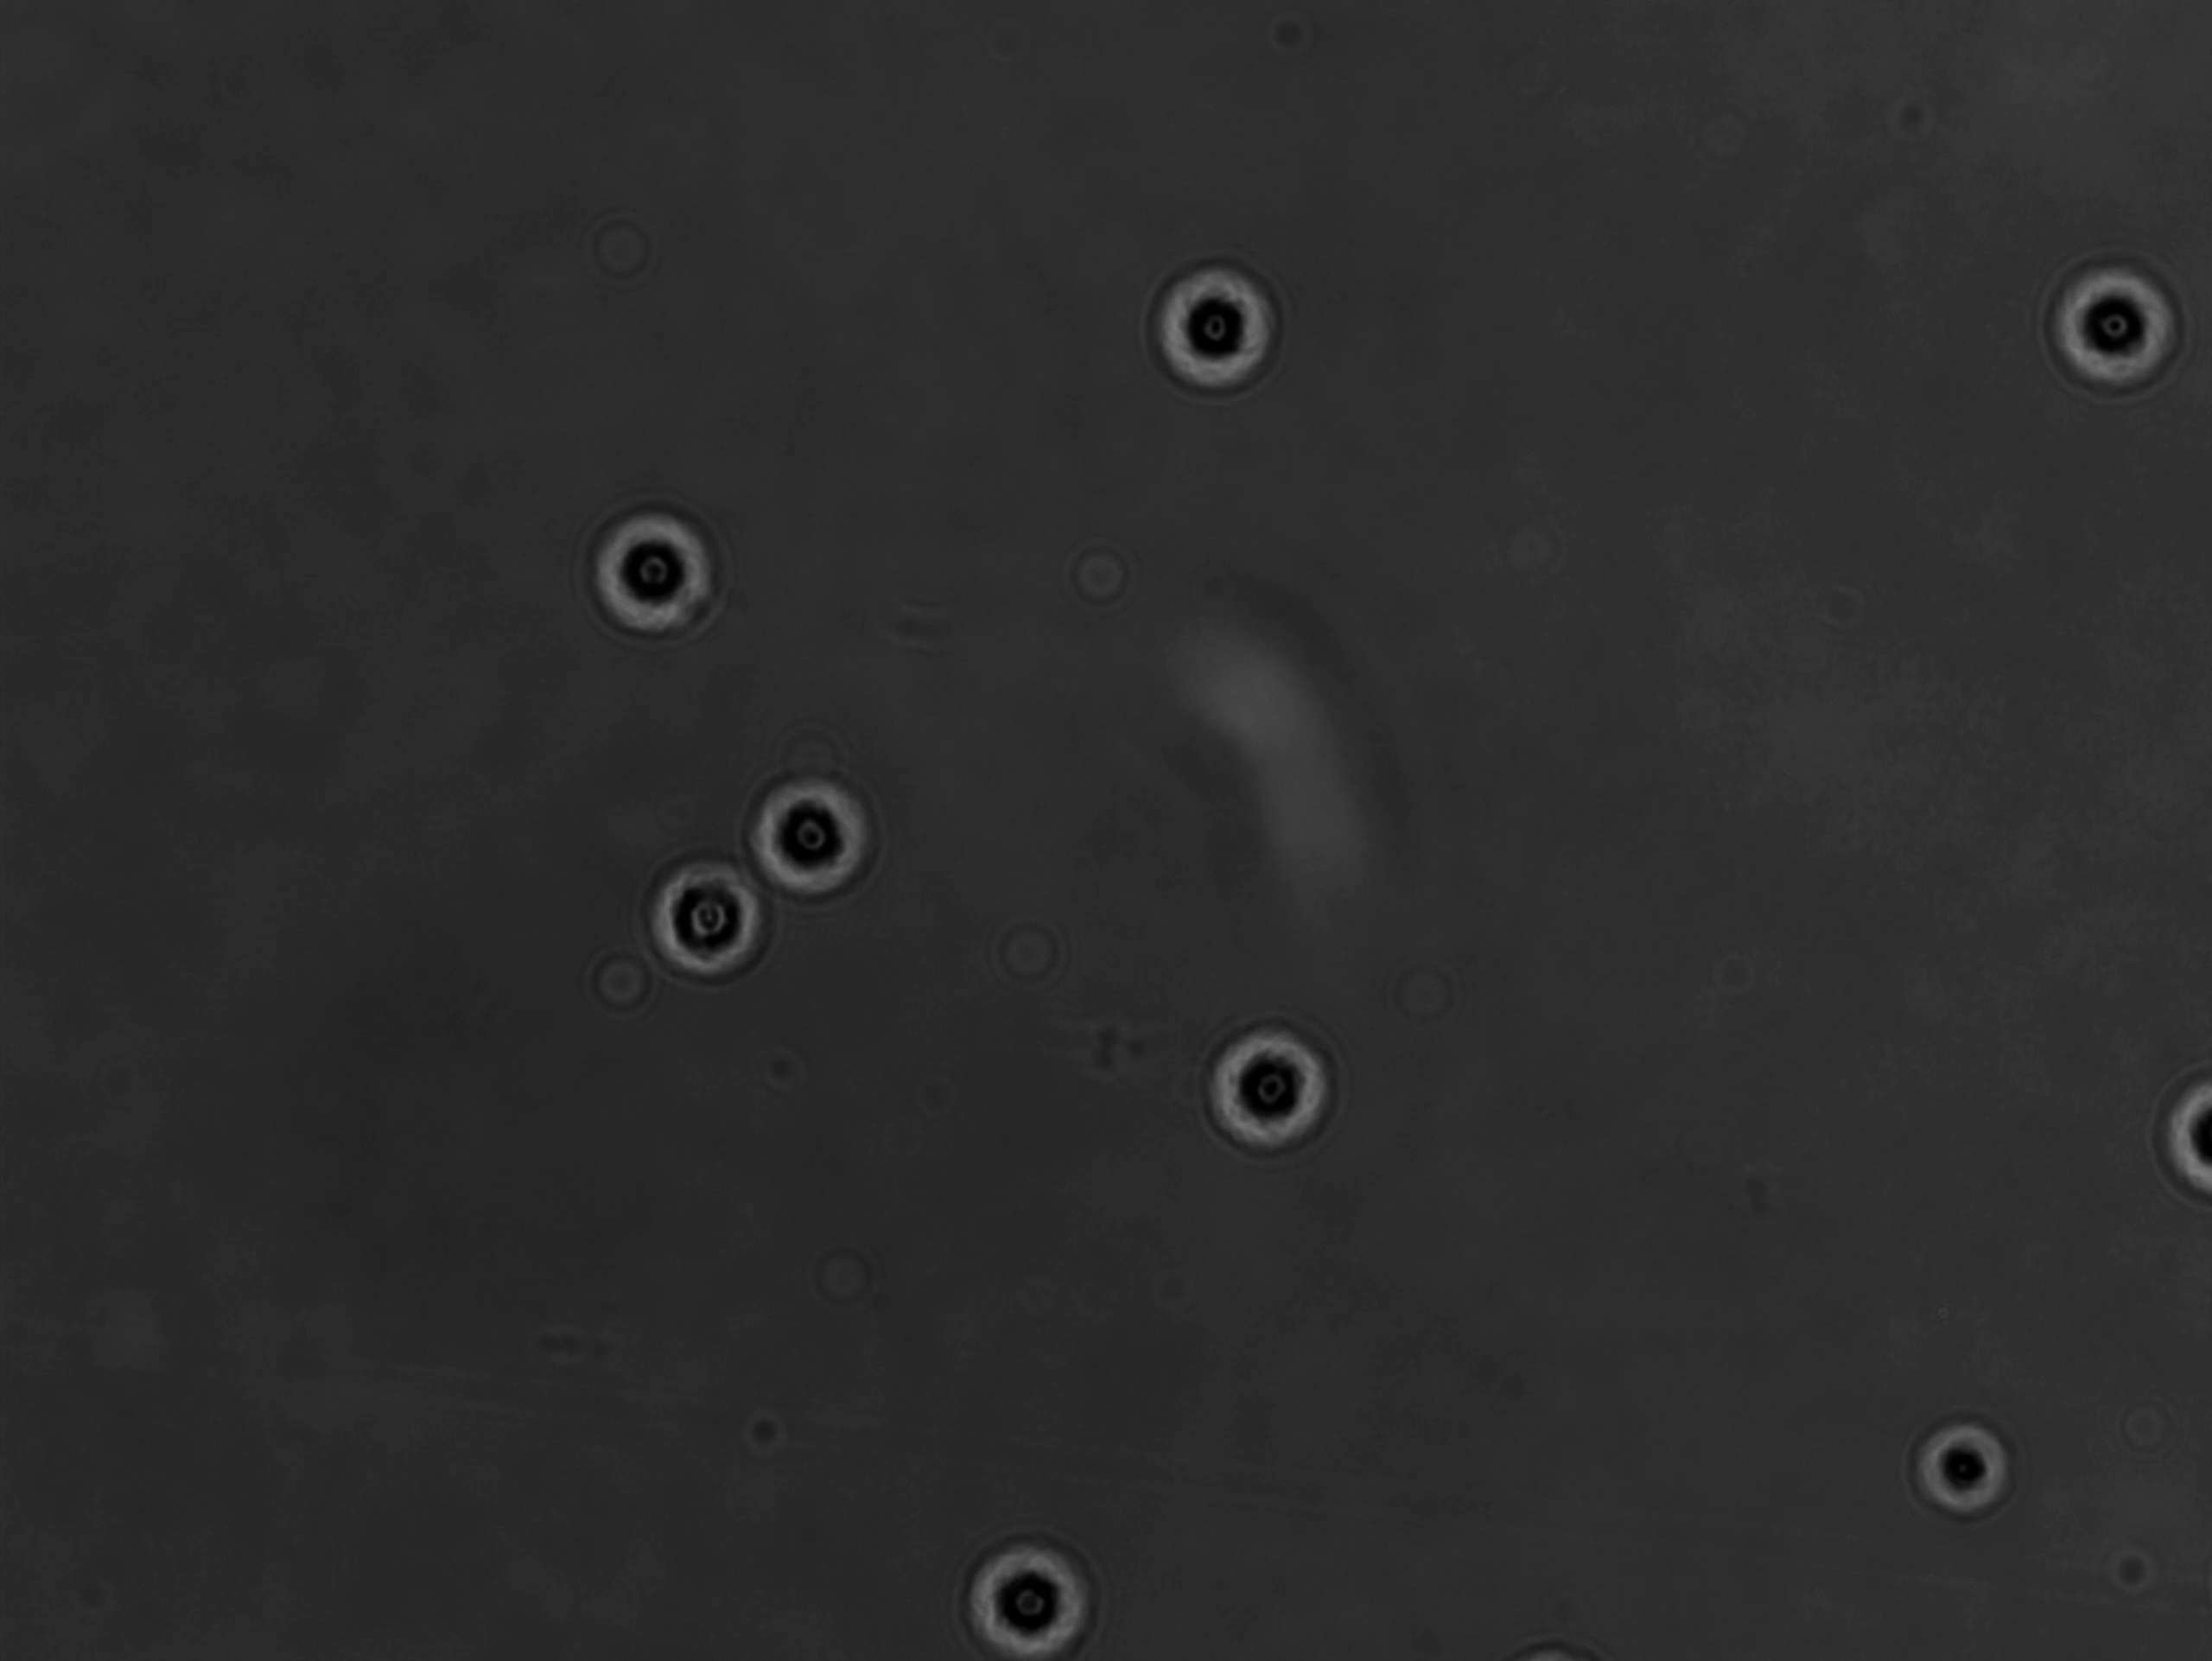depth:-20: (2025, 222, 2205, 403), (1129, 237, 1303, 408), (563, 487, 740, 653), (1186, 1000, 1354, 1165), (726, 748, 891, 913), (946, 1509, 1123, 1661), (635, 836, 792, 998)
